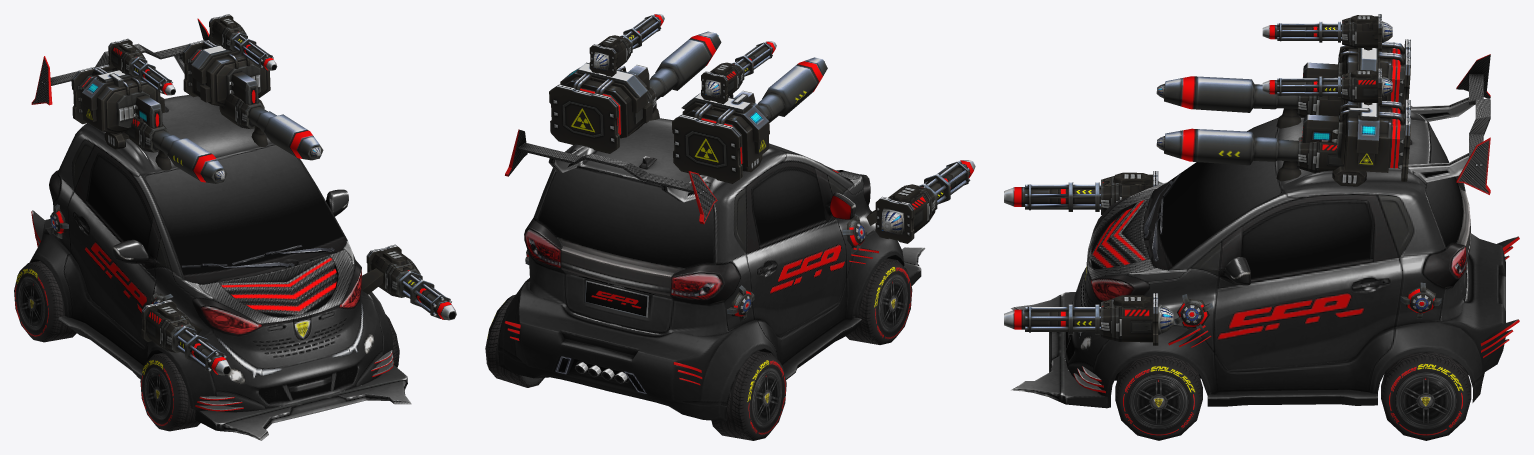
The model's file is all.fbx.
3 renders of one model, left to right at view 1: azimuth 30°, elevation 25°; view 2: azimuth 150°, elevation 25°; view 3: azimuth 270°, elevation 25°, orthographic. The views are drawn at different scales.
Parts seen in each view (by area): view 1: E100_01, E100_01_02, E100_01_01, E100_01_tyre_br, E100_01_tyre_fr, E100_01_04_l, E100_01_04_r, E100_01_03; view 2: E100_01, E100_01_02, E100_01_tyre_br, E100_01_01, E100_01_tyre_fr, E100_01_04_r, E100_01_04_l, pai, E100_01_tyre_bl, E100_01_03; view 3: E100_01, E100_01_02, E100_01_01, E100_01_tyre_bl, E100_01_tyre_fl, E100_01_04_l, E100_01_04_r, E100_01_03.
Part boxes in pixels (x1,y1,x2,y2): E100_01: (29,18,411,440); E100_01_02: (71,40,323,183); E100_01_01: (141,244,456,375); E100_01_tyre_br: (14,261,76,342); E100_01_tyre_fr: (140,353,200,431); E100_01_04_l: (209,14,277,70); E100_01_04_r: (108,38,175,95); E100_01_03: (50,204,173,304); E100_01: (498,118,925,421); E100_01_02: (549,31,827,183); E100_01_tyre_br: (711,351,786,440); E100_01_01: (675,117,975,243); E100_01_tyre_fr: (846,258,912,344); E100_01_04_r: (701,41,776,104); E100_01_04_l: (589,14,664,76); pai: (584,280,648,317); E100_01_tyre_bl: (485,294,544,387); E100_01_03: (525,214,866,321); E100_01: (1011,54,1519,408); E100_01_02: (1156,39,1410,186); E100_01_01: (1004,171,1173,345); E100_01_tyre_bl: (1381,352,1471,440); E100_01_tyre_fl: (1115,355,1202,440); E100_01_04_l: (1262,68,1392,105); E100_01_04_r: (1262,14,1392,50); E100_01_03: (1174,282,1441,332).
Bounding box in the file's own units: 200 × 225 × 311.
